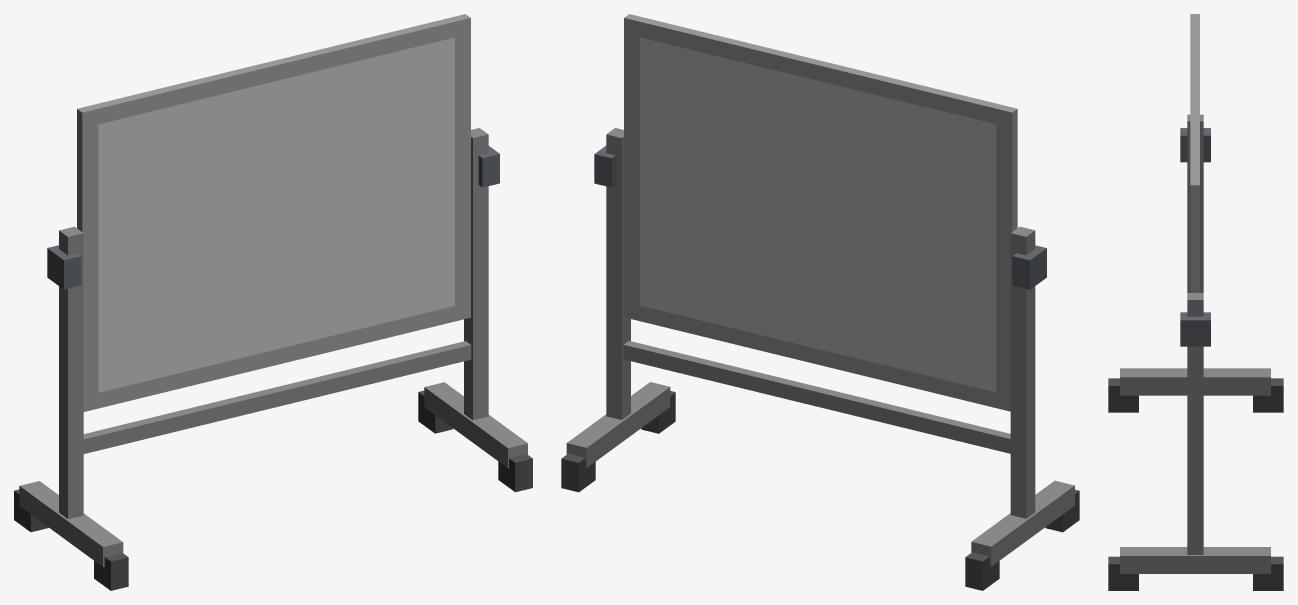
The model's file is SO_Whiteboard.fbx.
3 renders of one model, left to right at view 1: azimuth 30°, elevation 25°; view 2: azimuth 150°, elevation 25°; view 3: azimuth 270°, elevation 25°, orthographic. The views are drawn at different scales.
Visible parts, largest first — view 1: SO_Whiteboard; view 2: SO_Whiteboard; view 3: SO_Whiteboard.
Part boxes in pixels (x1,y1,x2,y2): SO_Whiteboard: (14, 14, 532, 590); SO_Whiteboard: (561, 14, 1079, 590); SO_Whiteboard: (1108, 14, 1283, 590).
Size of the model in its own units: 3.59 by 3.47 by 1.38.
